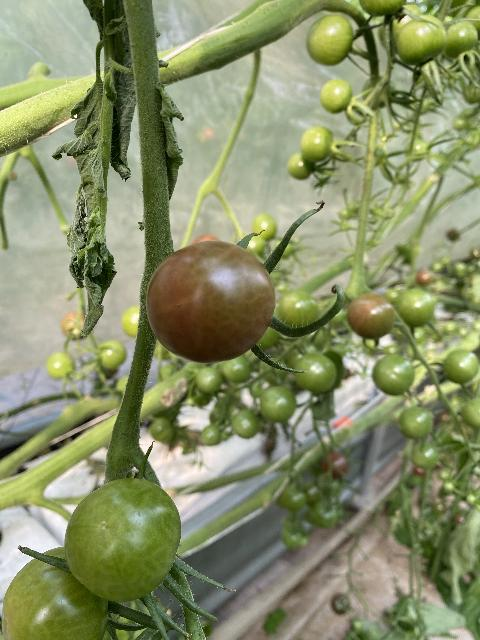l_green: (64, 478, 182, 602), (1, 546, 108, 639), (306, 15, 354, 67), (397, 14, 445, 65), (370, 355, 417, 395), (443, 20, 478, 60), (443, 349, 479, 383), (319, 78, 352, 114), (302, 125, 334, 162), (360, 0, 408, 18)
l_half_ripened: (145, 239, 276, 364), (347, 294, 394, 340)
